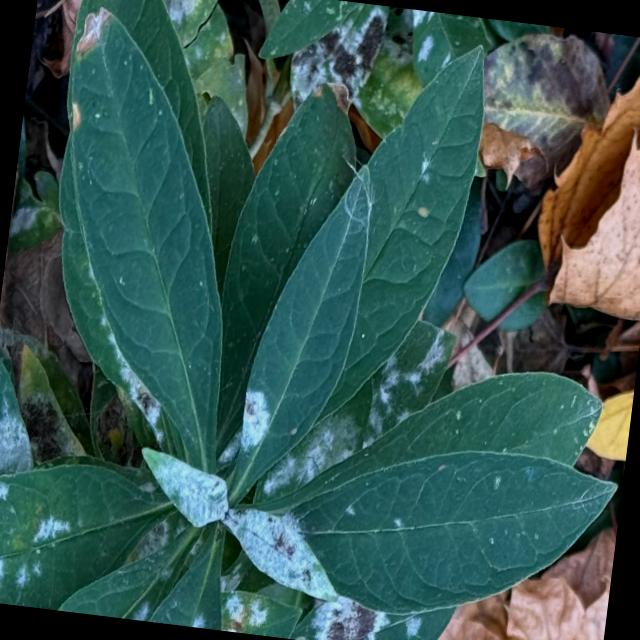powdery_mildew: (225, 508, 336, 600), (142, 448, 228, 526), (241, 390, 270, 451)
